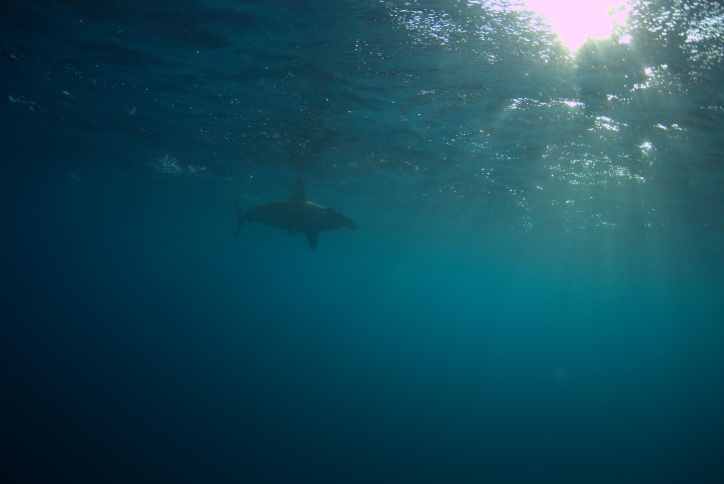Hammer: (221, 180, 365, 265)
